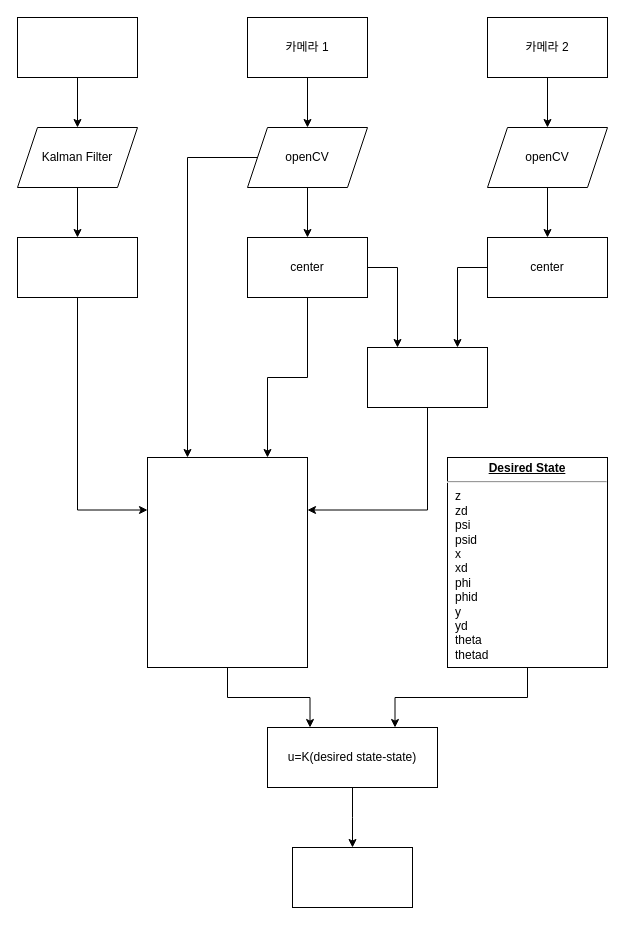
The diagram is 625 pixels wide and 925 high, and some of its shapes have lost their labels. Here are the shapes that lost their labels. From the top down, the centre of each, then its label:
At point (77, 47): "MPU6050".
At point (77, 267): "pose".
At point (427, 377): "distance".
At point (227, 562): "State z zd psi psid x xd phi phid y yd theta thetad".
At point (352, 877): "transmit".
